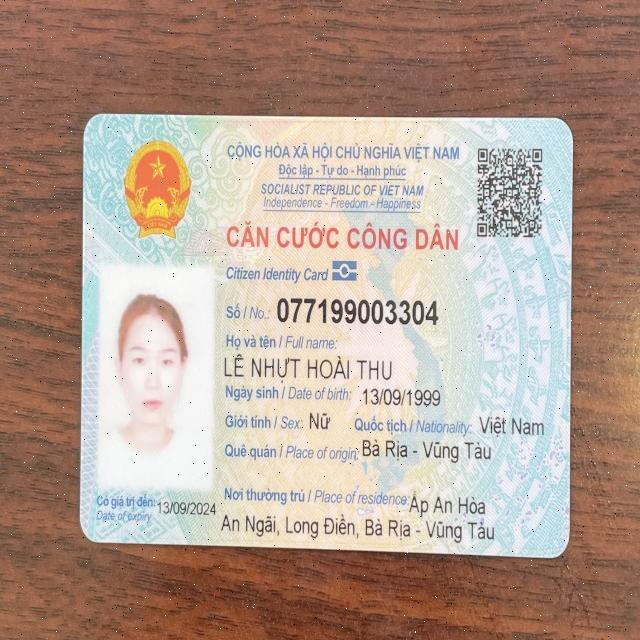current_place: (219, 507, 498, 543), (405, 490, 489, 516)
dob: (362, 383, 441, 409)
expire_date: (156, 501, 217, 514)
gender: (302, 409, 335, 439)
id: (275, 293, 439, 328)
name: (221, 349, 400, 386)
nationality: (475, 411, 549, 437)
origin_place: (362, 437, 494, 466)
qr: (474, 143, 547, 244)
